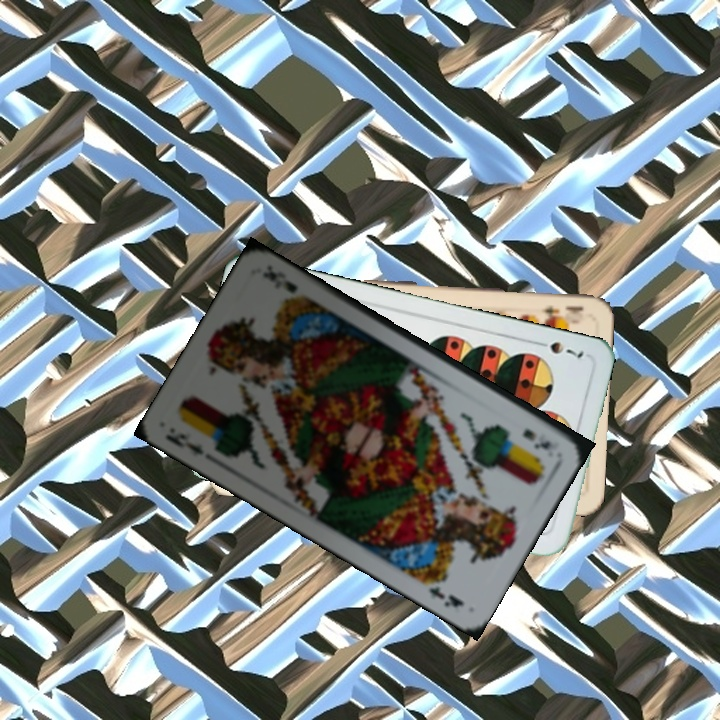E10: (536, 301, 586, 320)
EK: (161, 429, 206, 459), (518, 424, 554, 453)
S7: (530, 336, 586, 361)
